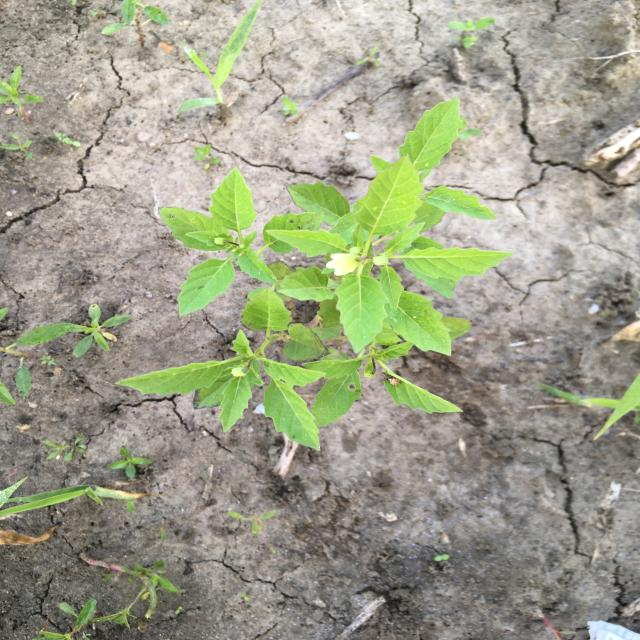CutleafGroundcherry: (114, 96, 518, 454)
Waterhemp: (52, 304, 131, 358)
